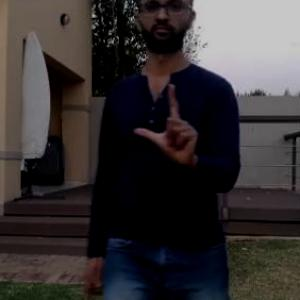land_hand: (128, 76, 210, 170)
